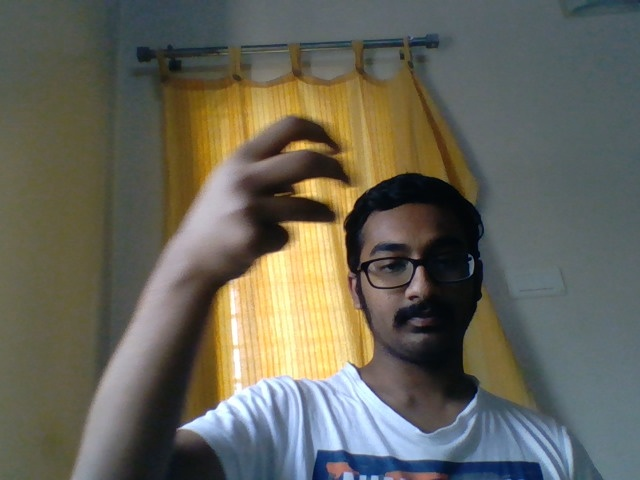thanks: (155, 86, 358, 290)
